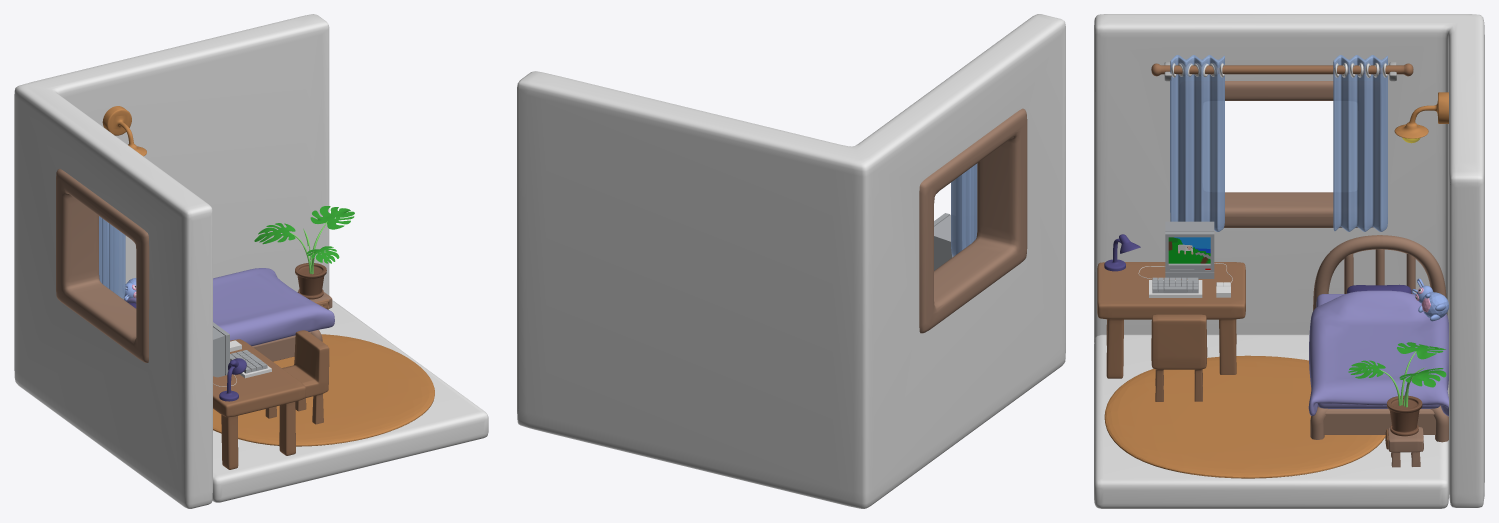
Rendered from mini_room.glb.
3 renders of one model, left to right at view 1: azimuth 30°, elevation 25°; view 2: azimuth 150°, elevation 25°; view 3: azimuth 270°, elevation 25°, orthographic. The views are drawn at different scales.
Visible parts, largest first — view 1: walls, floor, new rug, window, blanket, table, monstera, chair, curtain.001, wall lamp, computer, bed (+1 smaller); view 2: walls, window, curtain, computer; view 3: walls, new rug, floor, blanket, curtain.001, curtain, table, window, chair, bed struct, monstera, computer (+8 smaller).
Boxes of the visible parts, bbox=[...] form: walls: bbox=[14, 14, 329, 508]; floor: bbox=[212, 300, 488, 502]; new rug: bbox=[213, 334, 434, 446]; window: bbox=[56, 169, 149, 362]; blanket: bbox=[123, 268, 334, 346]; table: bbox=[213, 339, 305, 469]; monstera: bbox=[254, 206, 354, 299]; chair: bbox=[265, 330, 329, 424]; curtain.001: bbox=[99, 216, 125, 298]; wall lamp: bbox=[102, 106, 146, 156]; computer: bbox=[213, 322, 229, 377]; bed: bbox=[252, 331, 310, 361]; walls: bbox=[517, 14, 1065, 508]; window: bbox=[919, 108, 1027, 333]; curtain: bbox=[951, 163, 977, 256]; computer: bbox=[934, 213, 952, 270]; walls: bbox=[1094, 14, 1484, 507]; new rug: bbox=[1104, 355, 1385, 478]; floor: bbox=[1094, 334, 1448, 508]; blanket: bbox=[1308, 290, 1448, 416]; curtain.001: bbox=[1333, 55, 1387, 231]; curtain: bbox=[1170, 55, 1224, 231]; table: bbox=[1097, 262, 1245, 378]; window: bbox=[1224, 81, 1373, 227]; chair: bbox=[1151, 314, 1207, 401]; bed struct: bbox=[1310, 235, 1448, 442]; monstera: bbox=[1348, 342, 1446, 436]; computer: bbox=[1165, 221, 1214, 278].
Size of the model in its own units: 3.46 by 3.12 by 3.3.
